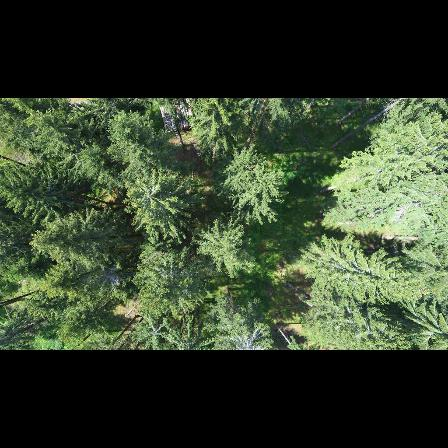Sick: (224, 317, 273, 350), (88, 260, 126, 297)
